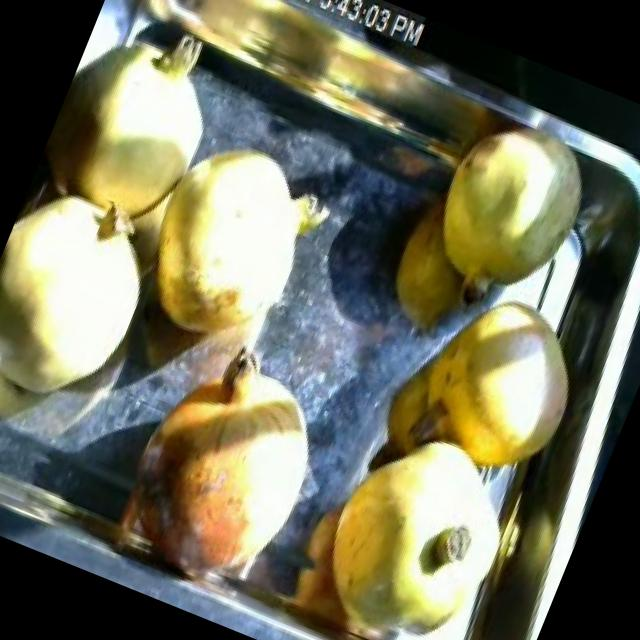fruit: (91, 332, 351, 616), (104, 102, 359, 388), (15, 12, 244, 280), (290, 398, 538, 640), (388, 266, 606, 506), (0, 163, 188, 440), (402, 102, 612, 337)
